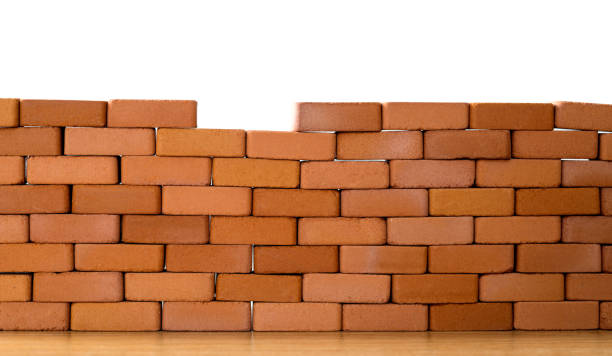brick: (296, 100, 381, 133), (25, 155, 118, 185), (341, 187, 431, 218), (107, 98, 195, 129), (31, 213, 119, 244), (69, 303, 163, 332), (73, 185, 160, 216), (162, 301, 250, 331), (125, 273, 216, 302), (431, 301, 513, 333), (254, 301, 341, 331), (163, 186, 252, 215), (213, 157, 299, 187), (429, 187, 514, 217), (394, 274, 479, 304), (121, 156, 211, 184), (513, 129, 599, 158), (477, 157, 563, 186), (429, 246, 515, 275), (300, 161, 389, 189), (516, 186, 601, 215), (165, 245, 250, 274), (248, 131, 336, 159), (254, 189, 341, 217), (211, 216, 295, 245), (75, 244, 162, 272), (384, 103, 470, 131), (475, 215, 561, 243), (253, 246, 339, 274), (156, 128, 245, 155), (298, 218, 387, 245), (32, 274, 124, 300), (390, 160, 475, 188), (343, 303, 428, 331), (123, 215, 211, 242), (63, 129, 154, 155), (339, 132, 423, 160), (340, 245, 427, 272), (215, 274, 302, 301), (515, 303, 598, 331), (425, 129, 511, 156), (305, 274, 391, 301), (388, 217, 473, 244), (480, 273, 565, 300), (469, 104, 554, 130), (1, 243, 74, 273), (21, 99, 105, 125), (518, 245, 602, 271), (0, 185, 70, 214), (2, 302, 71, 331), (0, 126, 61, 157), (556, 100, 611, 132), (563, 216, 612, 243), (567, 273, 611, 302), (564, 160, 611, 186), (0, 215, 30, 245), (1, 275, 29, 301)
